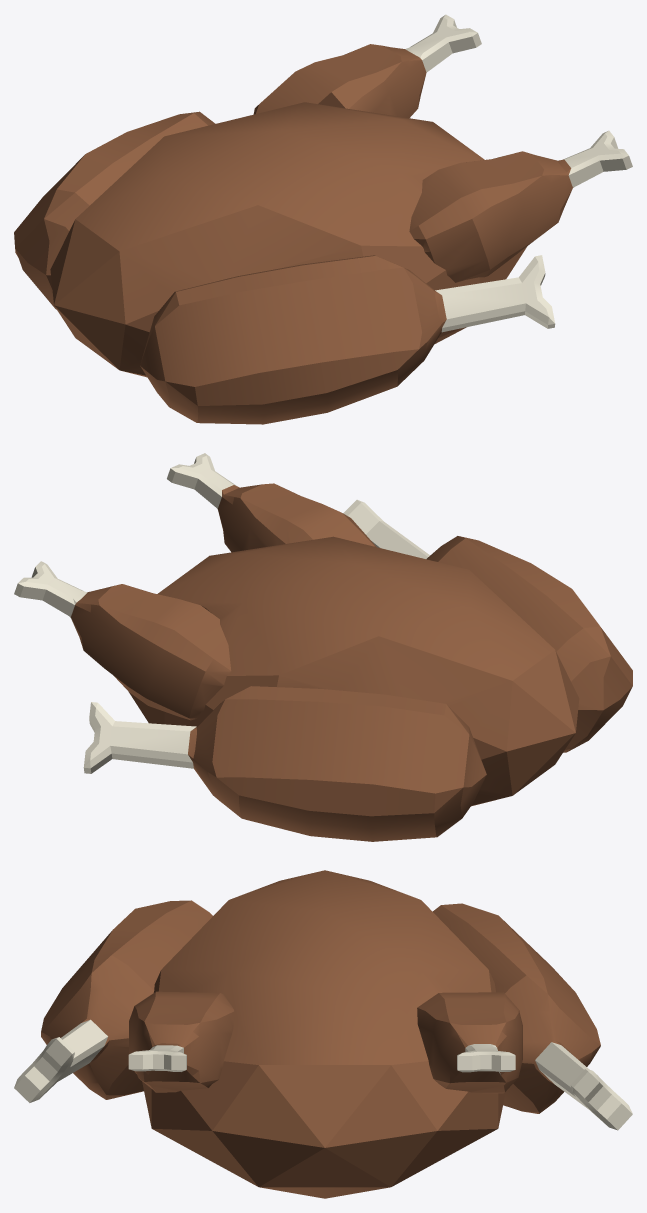
File: Indyk.fbx
The picture shows the model from 3 angles, top to bottom: view 1: azimuth 30°, elevation 25°; view 2: azimuth 150°, elevation 25°; view 3: azimuth 270°, elevation 25°; orthographic projection. The views are drawn at different scales.
Visible parts, largest first — view 1: Indyk; view 2: Indyk; view 3: Indyk.
Boxes of the visible parts, left/top/right/bottom form: Indyk: left=14, top=14, right=632, bottom=424; Indyk: left=14, top=453, right=632, bottom=841; Indyk: left=14, top=870, right=632, bottom=1198.
Bounding box in the file's own units: 15.16 × 6.5 × 16.07.
